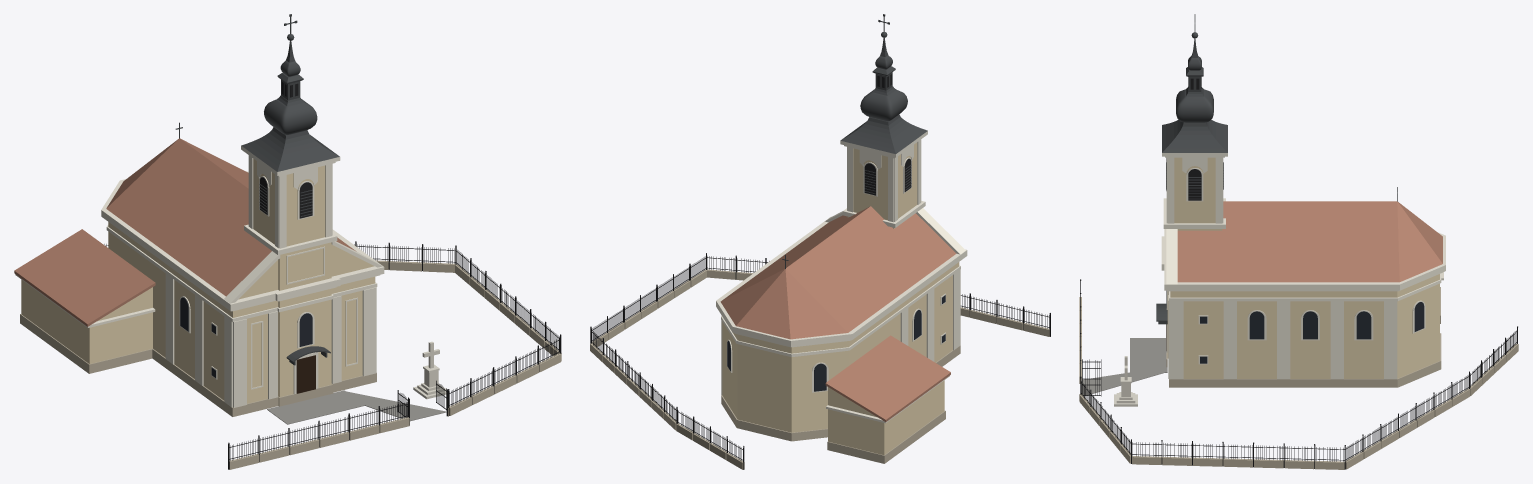
The model's file is st-roch.glb.
3 renders of one model, left to right at view 1: azimuth 30°, elevation 25°; view 2: azimuth 150°, elevation 25°; view 3: azimuth 270°, elevation 25°, orthographic. The views are drawn at different scales.
Visible parts, largest first — view 1: StRoch; view 2: StRoch; view 3: StRoch.
Boxes of the visible parts, box(x1,y1,x2,y2) form: StRoch: box(14, 14, 561, 469); StRoch: box(590, 14, 1050, 469); StRoch: box(1079, 14, 1518, 469).
Bounding box in the file's own units: 30.55 × 28.48 × 32.88.
